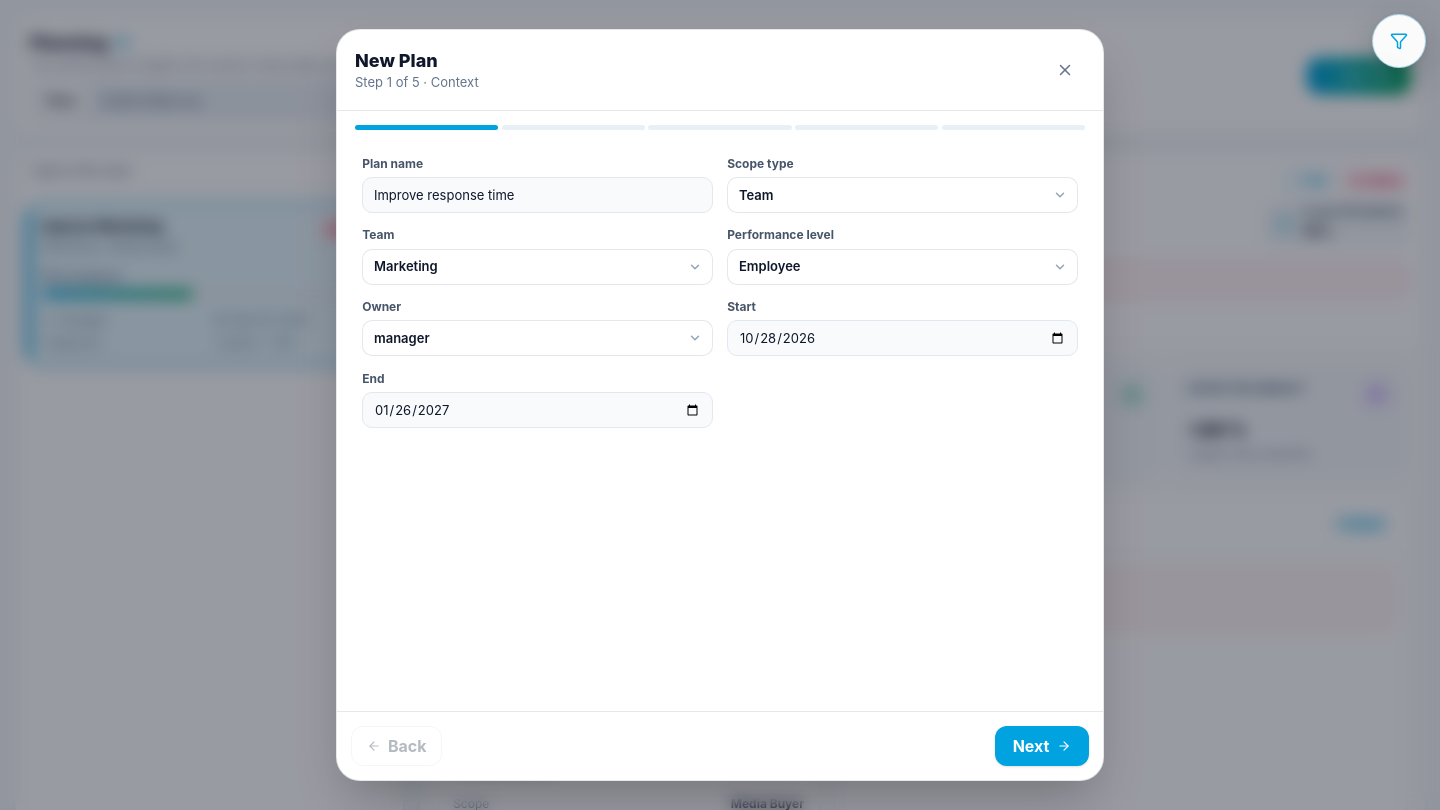
Test: PlanningView › carries the recommended action into the existing planning workflow
Click the button "Next".
click(1042, 746)  # box [995,726,1089,766]
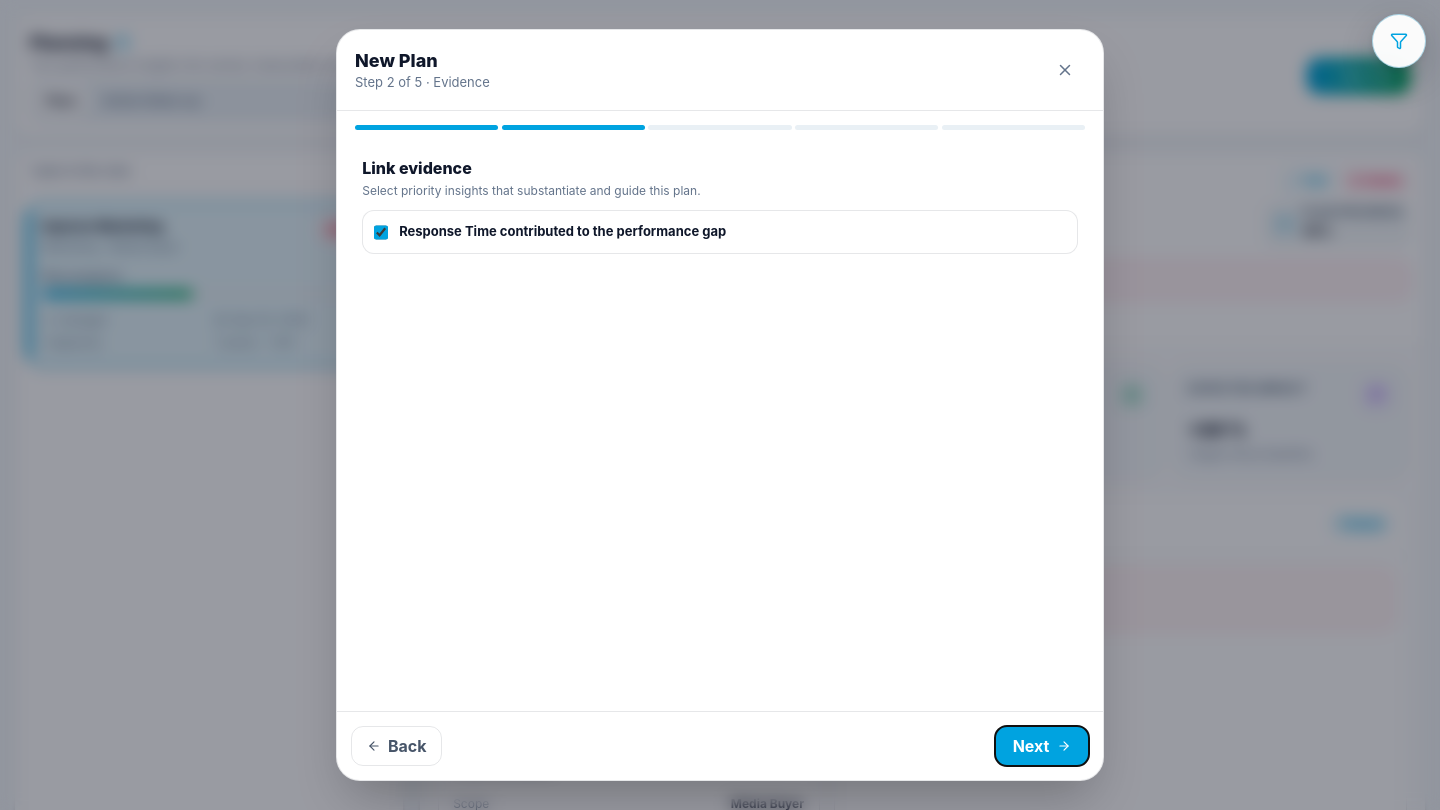
Click the button "Next".
click(1042, 746)  # box [995,726,1089,766]
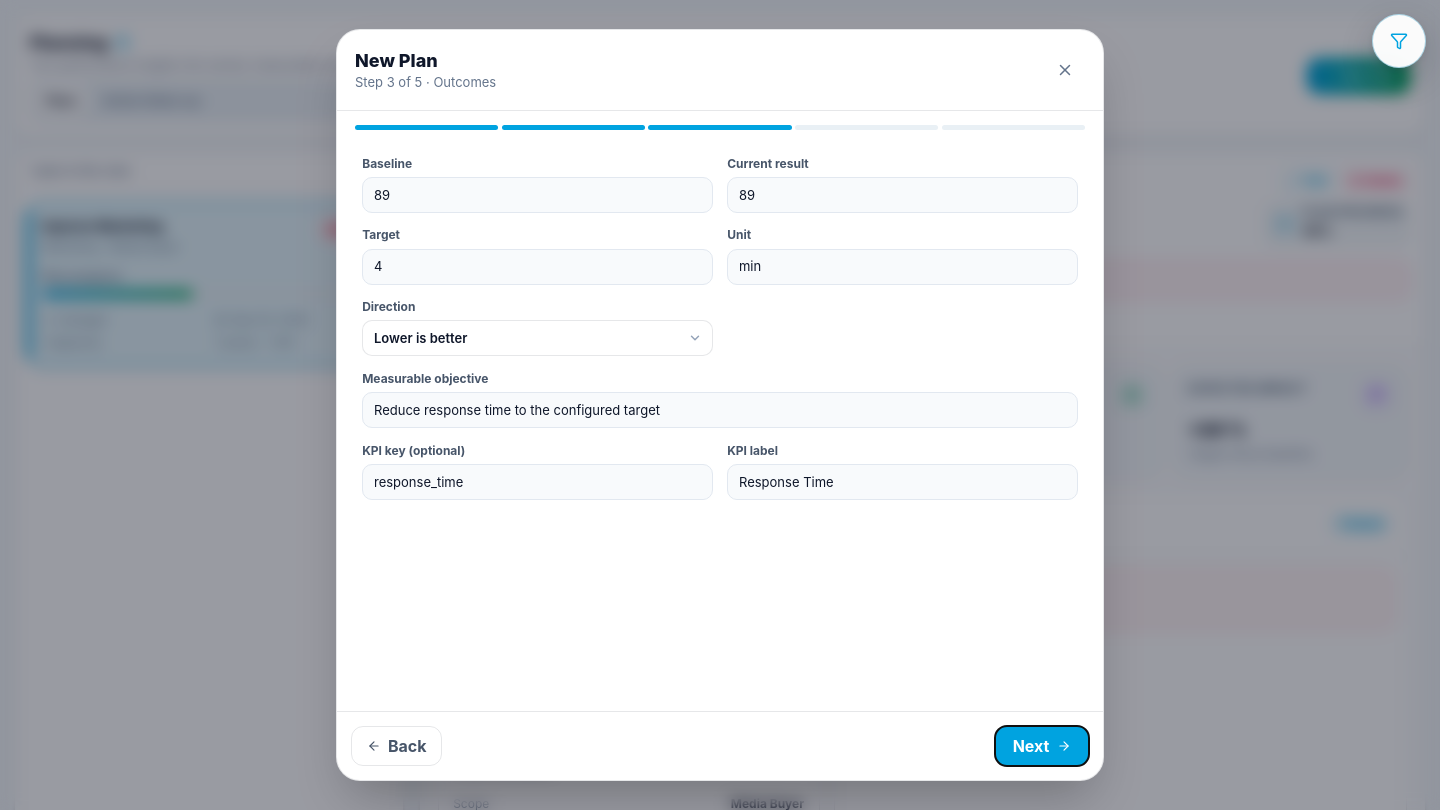
Click the button "Next".
click(1042, 746)  # box [995,726,1089,766]
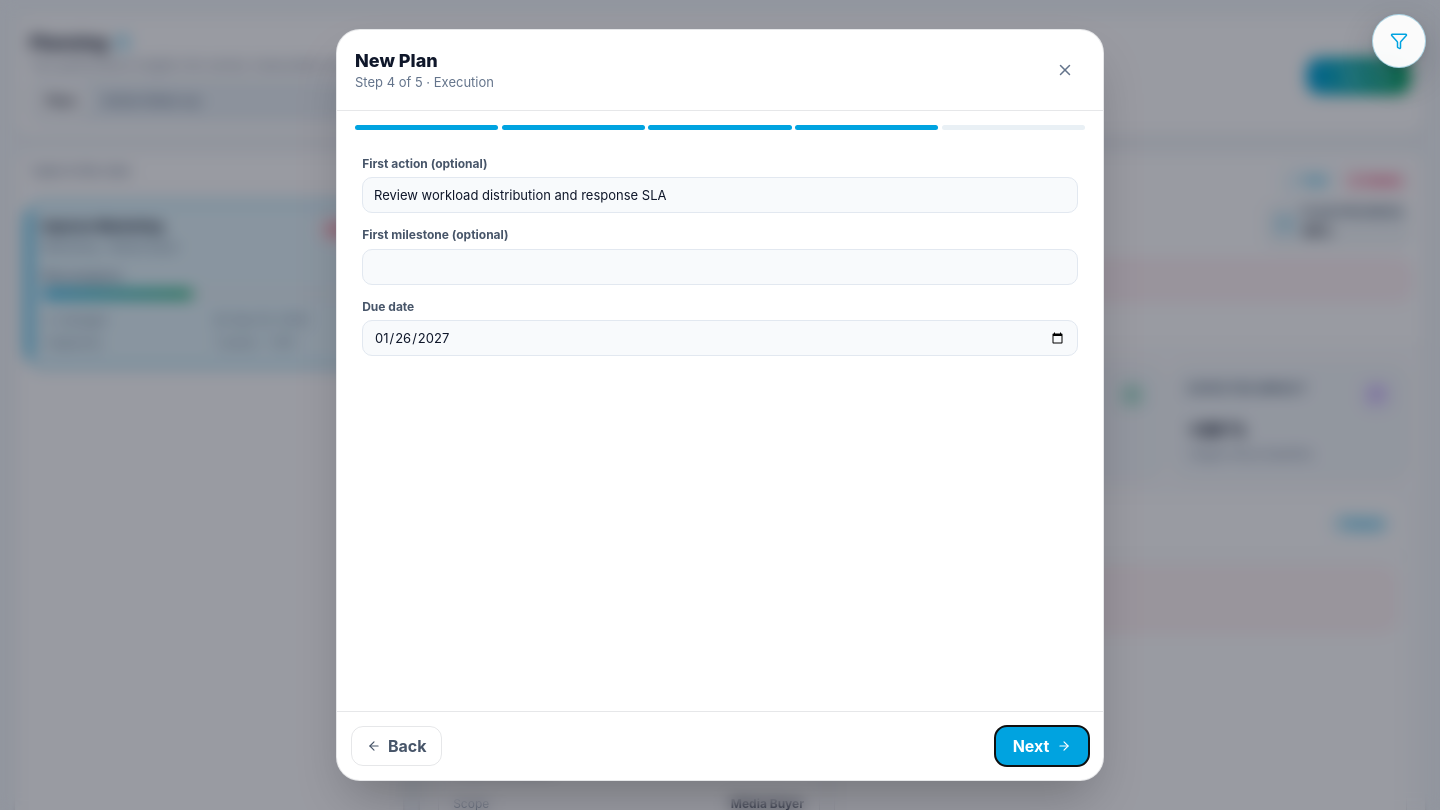
Expected: the field labelled "First action (optional)" holds "Review workload distribution and response SLA", [362,177,1078,213]
